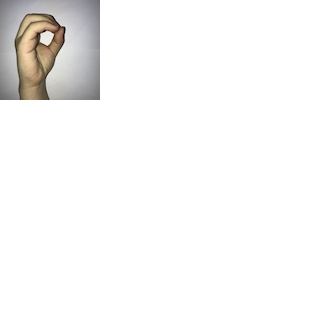rock: (8, 10, 67, 90)
